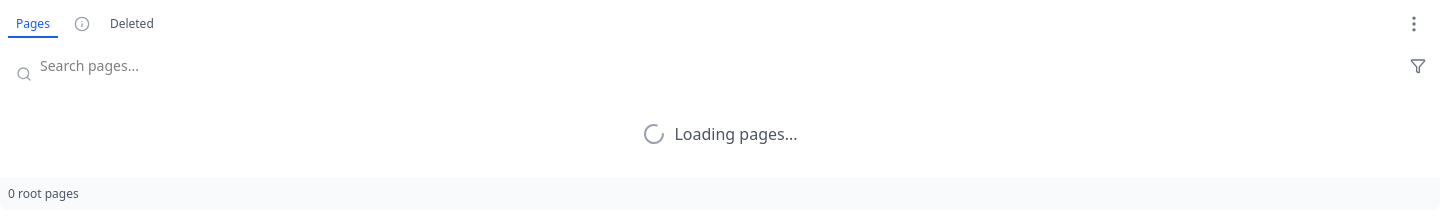
Scenario: TreePageManager Search Functionality › should show loading state during search
The image size is (1440, 218).
Type "about" into the field with placeholder "Search pages...". click: (702, 66)
box: [8,50,1396,82]
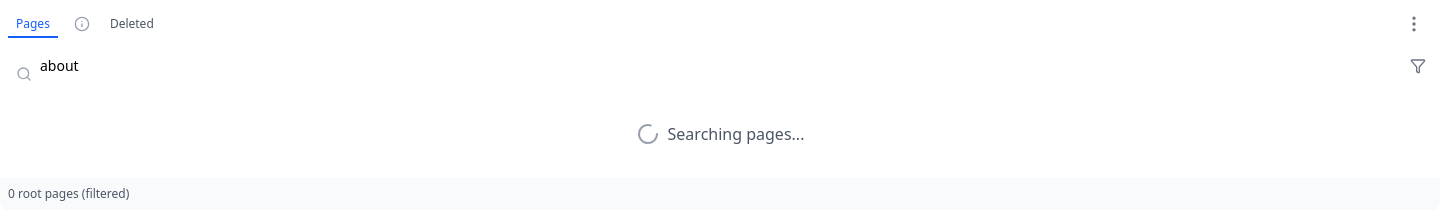
Now the text "Searching pages..." is shown, box [668,122,804,146]
